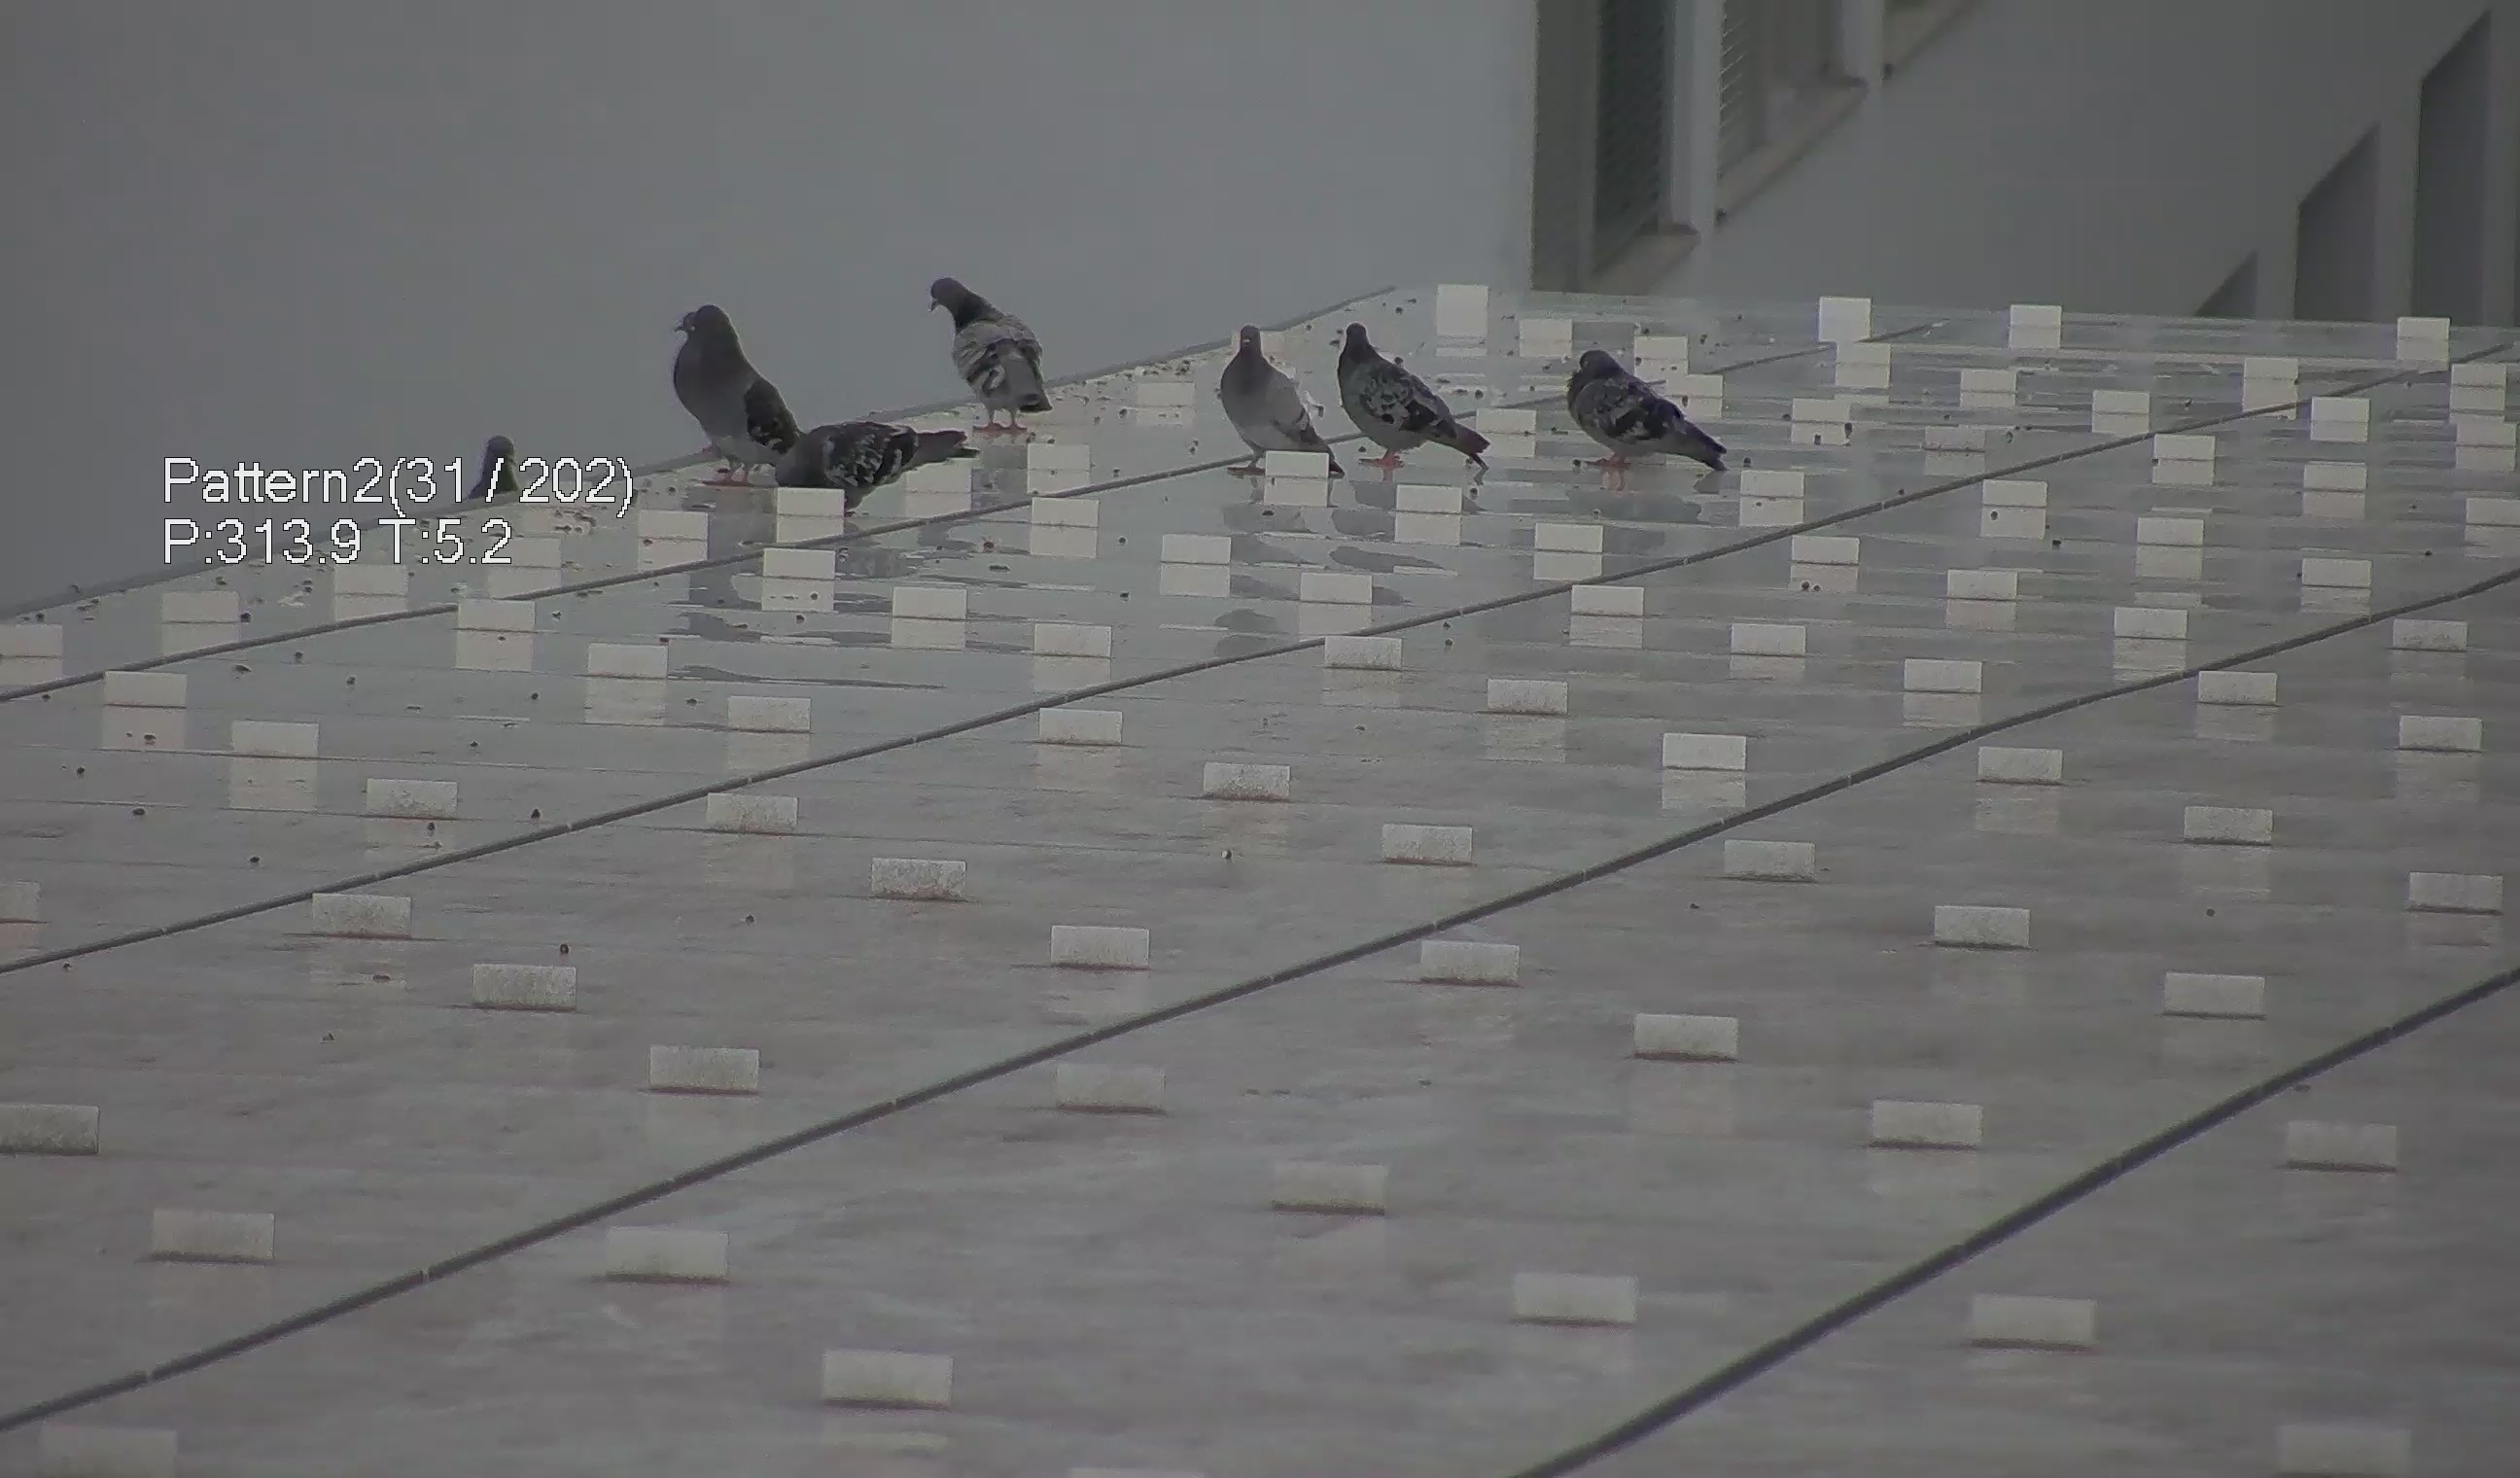Pigeon: (654, 294, 834, 484), (1326, 311, 1502, 482), (1563, 329, 1741, 484), (767, 412, 990, 523), (914, 264, 1055, 413), (1210, 311, 1326, 468), (462, 417, 521, 509)
